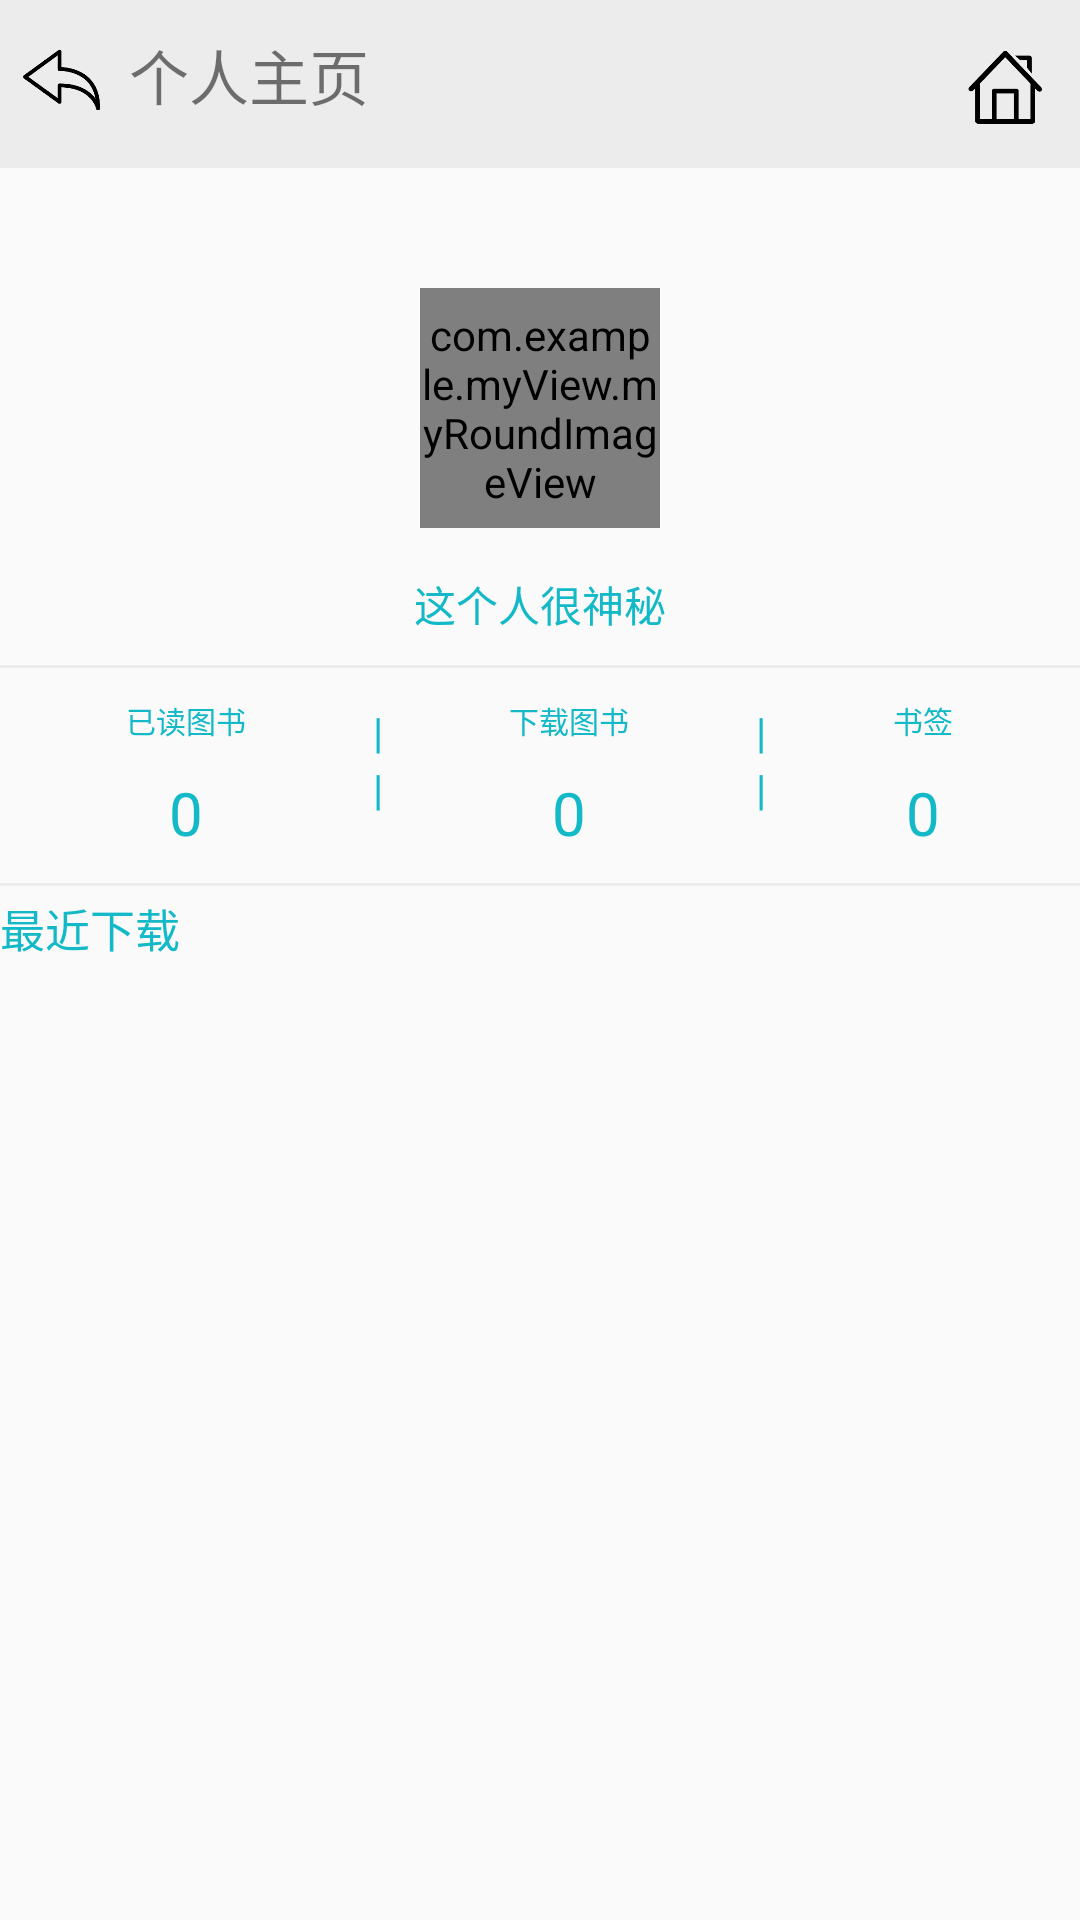

Icons on this 1080w x 1920h Android screen, each with its box as {"x1": x1, "y1": y1, "x2": x2, "y2": y2}:
homepage: {"x1": 968, "y1": 51, "x2": 1042, "y2": 124}
